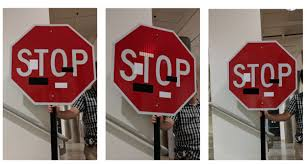stop sign: (111, 25, 197, 117), (8, 25, 95, 106), (225, 39, 297, 110)
